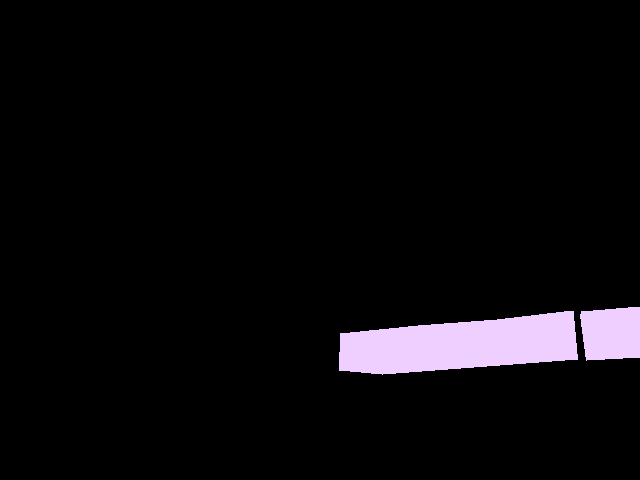Train: (339, 306, 640, 374)
